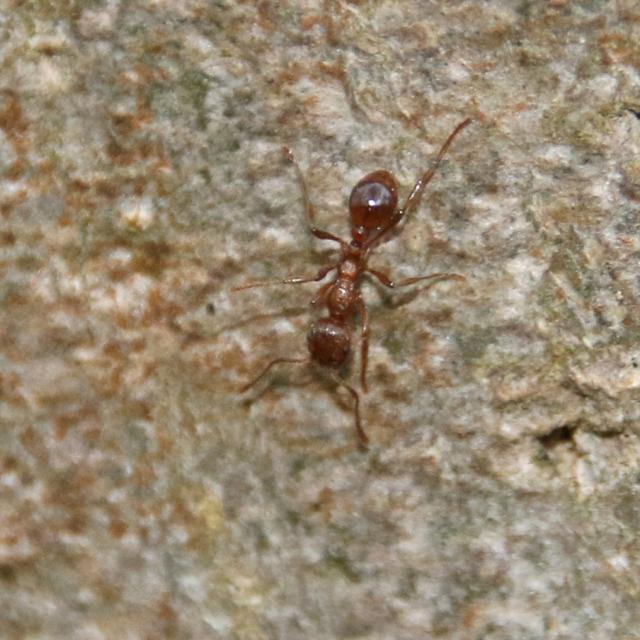Myrmica: (255, 143, 457, 449)
